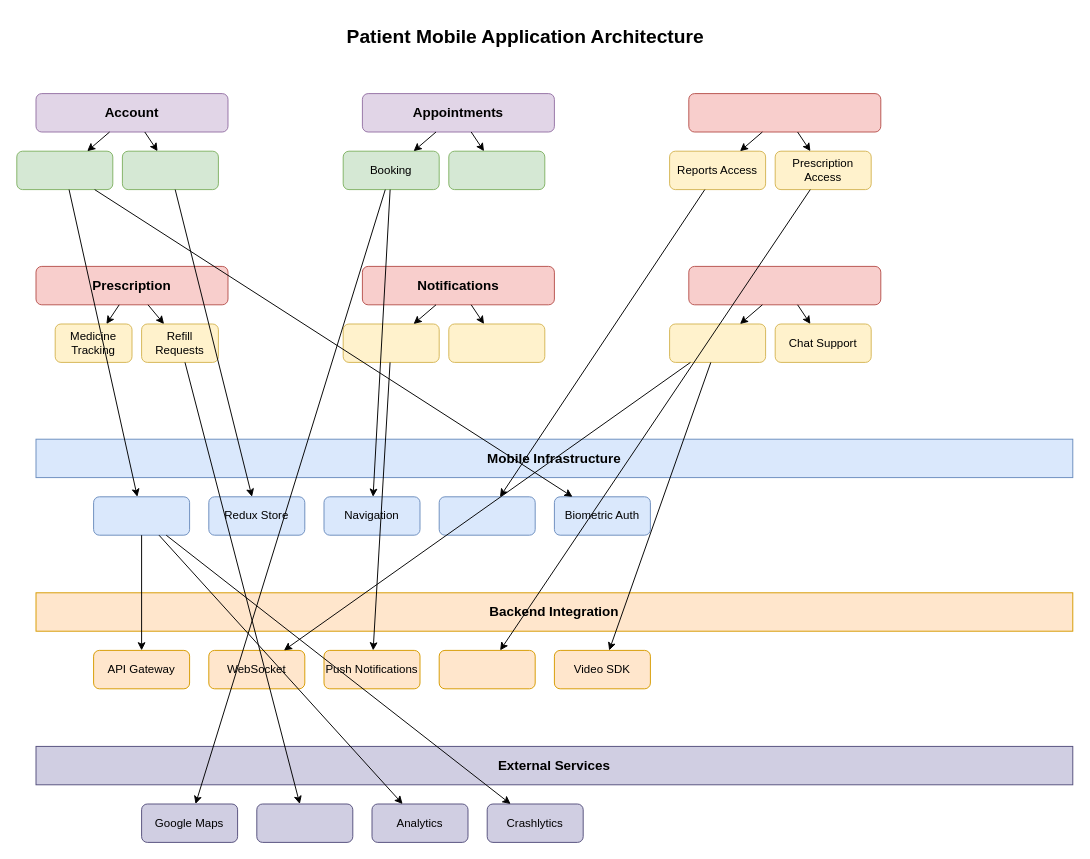
Image size: 1090x859. Some labels were removed from this diagram. The centre of each missing label's shape, as x and y in pixels:
Alerts: the point at 390,342
File Upload: the point at 486,669
History: the point at 496,170
Local Storage: the point at 486,515
Medical Records: the point at 784,112
Payment Gateway: the point at 304,822
Profile Management: the point at 169,170
React Native: the point at 141,515
Registration/Login: the point at 64,170
Reminders: the point at 496,342
Telemedicine: the point at 784,285
Video Consultation: the point at 717,342
